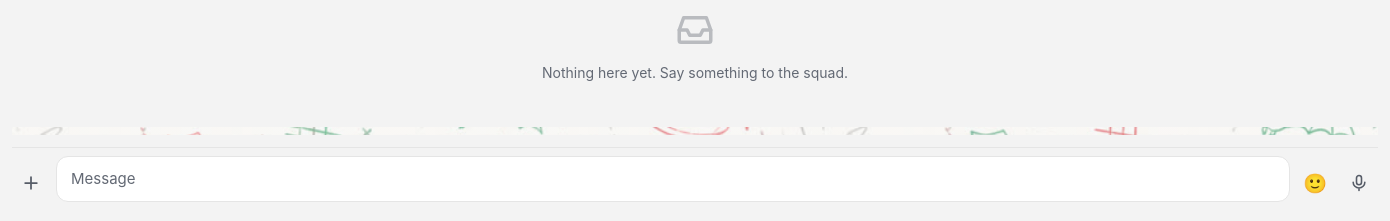
Test: channel composer bar › the + menu dismisses on Escape
This screenshot has width=1390, height=221.
Click the button with test id "attach-menu": (31, 183) [12,164,50,202]
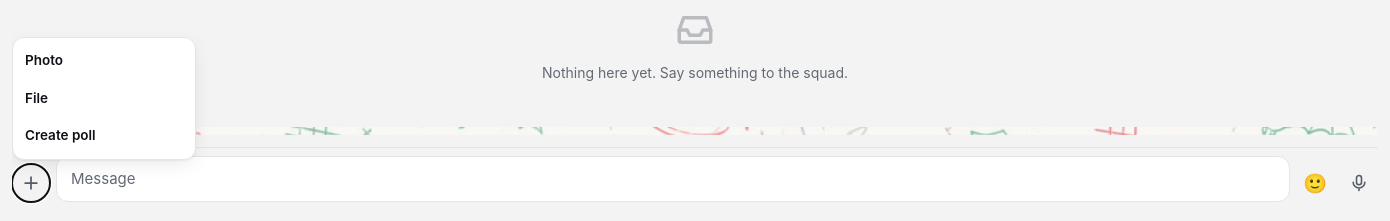
Now the menu item with test id "attach-menu-photo" is shown, box [13,42,195,80]
Press Escape
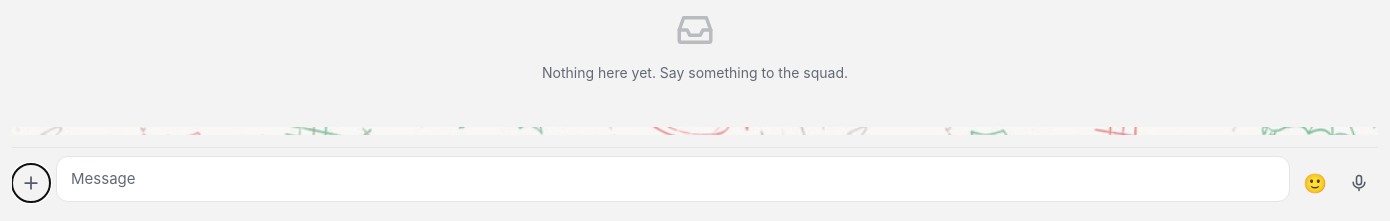
Now the menu item with test id "attach-menu-photo" is gone
